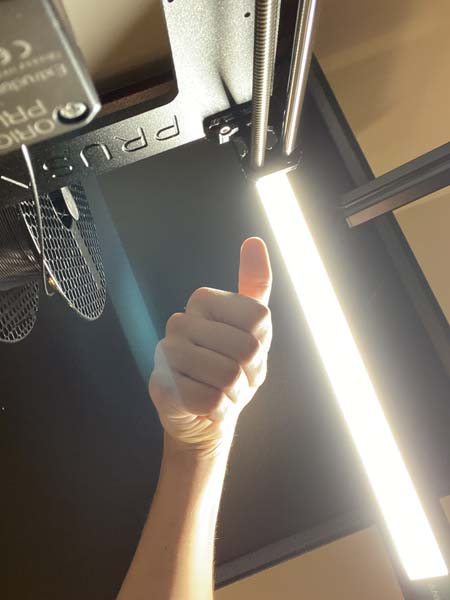Thumbs Up: (136, 218, 301, 475)
